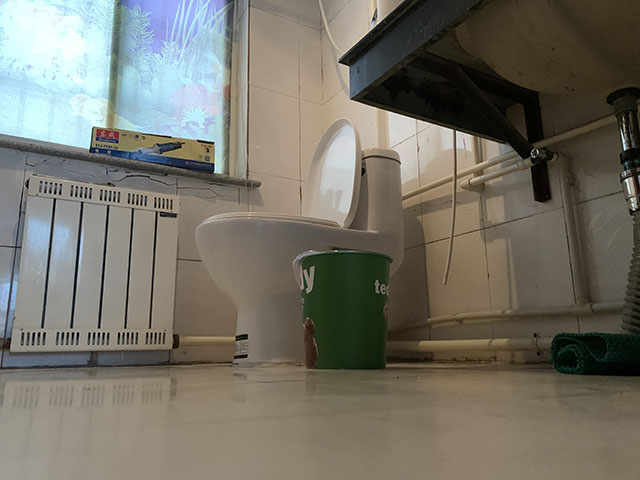closestool: (193, 117, 406, 368)
trashcan: (292, 245, 394, 371)
